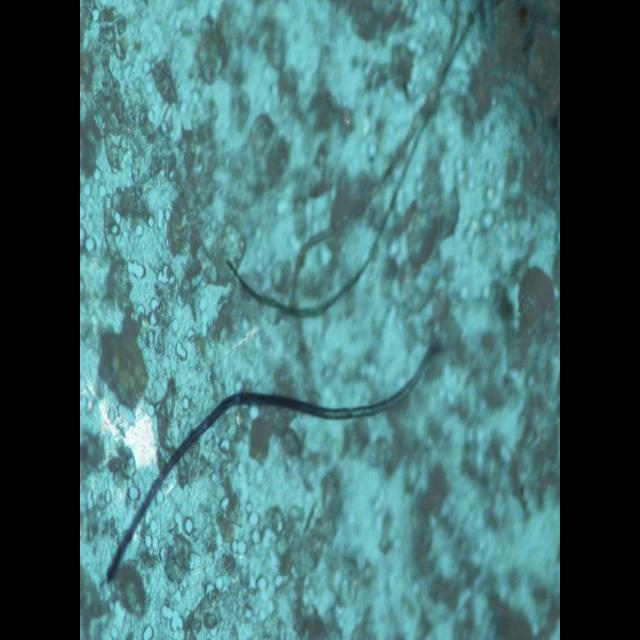Fibre: (103, 338, 443, 588)
